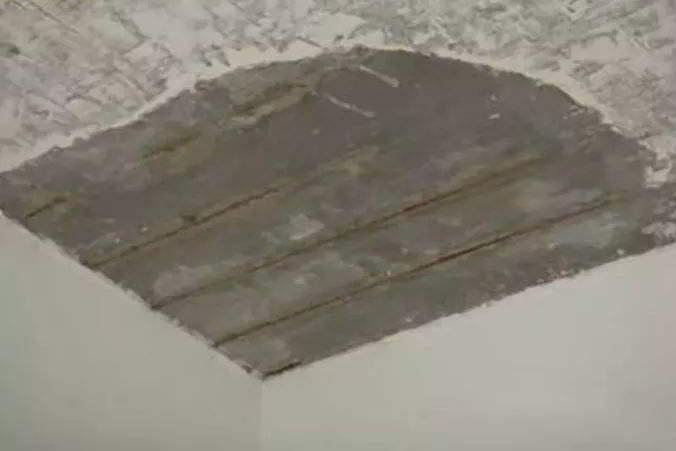Exposed reinforcement: (210, 199, 617, 349), (150, 186, 462, 313), (90, 185, 281, 271), (140, 133, 203, 160), (24, 196, 66, 222)
Spalling: (1, 45, 676, 380)
